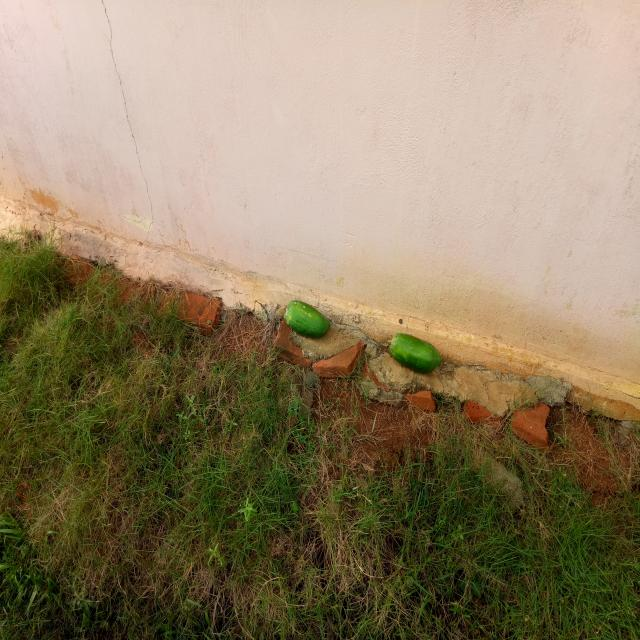Pepaya unrippen: (383, 325, 450, 380), (280, 296, 334, 349)
